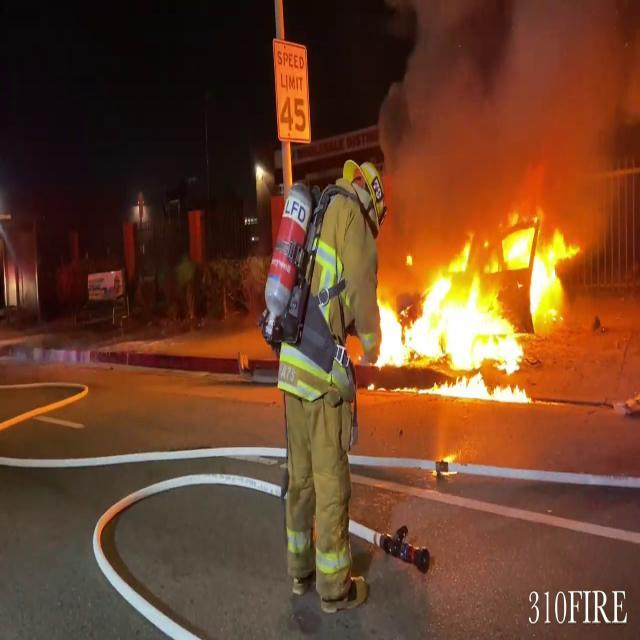Fire: (364, 209, 582, 403)
Smoke: (369, 0, 640, 217)
